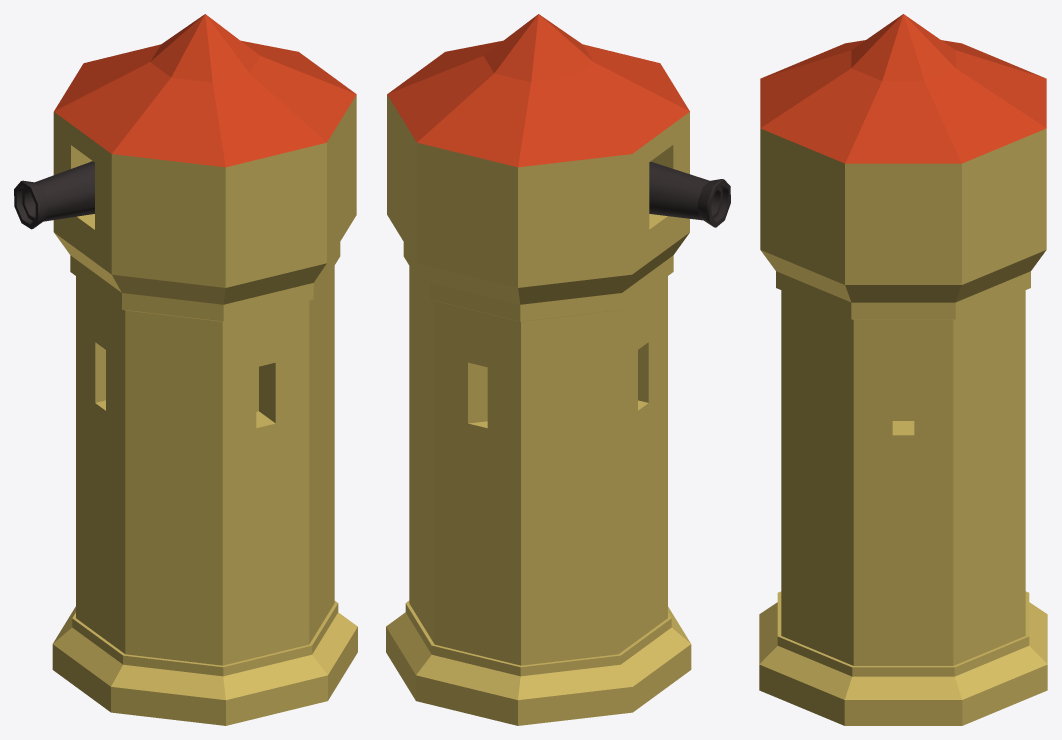
The model's file is tower.fbx.
The picture shows the model from 3 angles, left to right: view 1: azimuth 30°, elevation 25°; view 2: azimuth 150°, elevation 25°; view 3: azimuth 270°, elevation 25°; orthographic projection.
Visible parts, largest first — view 1: Plane, Head, Gun; view 2: Plane, Head, Gun; view 3: Plane, Head.
Boxes of the visible parts, box(x1,y1,x2,y2) form: Plane: box(52, 242, 357, 725); Head: box(53, 14, 356, 304); Gun: box(14, 161, 94, 229); Plane: box(386, 242, 691, 725); Head: box(387, 14, 689, 304); Gun: box(649, 161, 730, 227); Plane: box(759, 271, 1047, 725); Head: box(760, 14, 1046, 302).
Size of the model in its own units: 551 by 1120 by 450.
